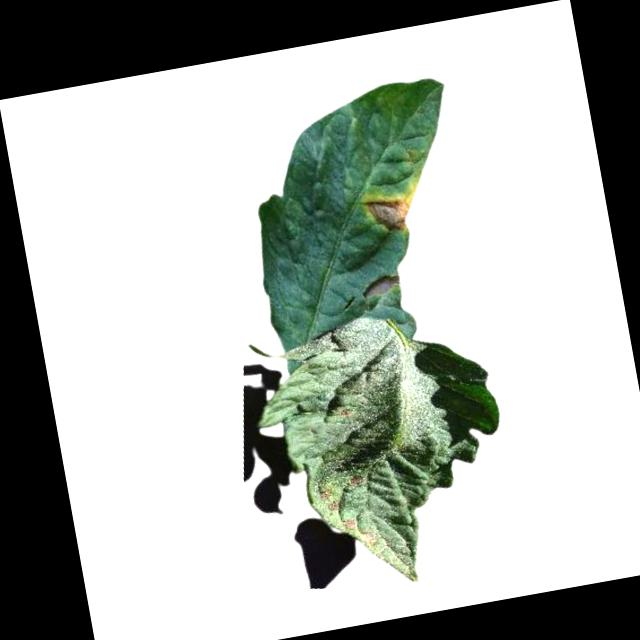Early_blight: (364, 193, 419, 237), (325, 498, 341, 515), (347, 475, 366, 488), (340, 517, 356, 532), (317, 490, 332, 503)
